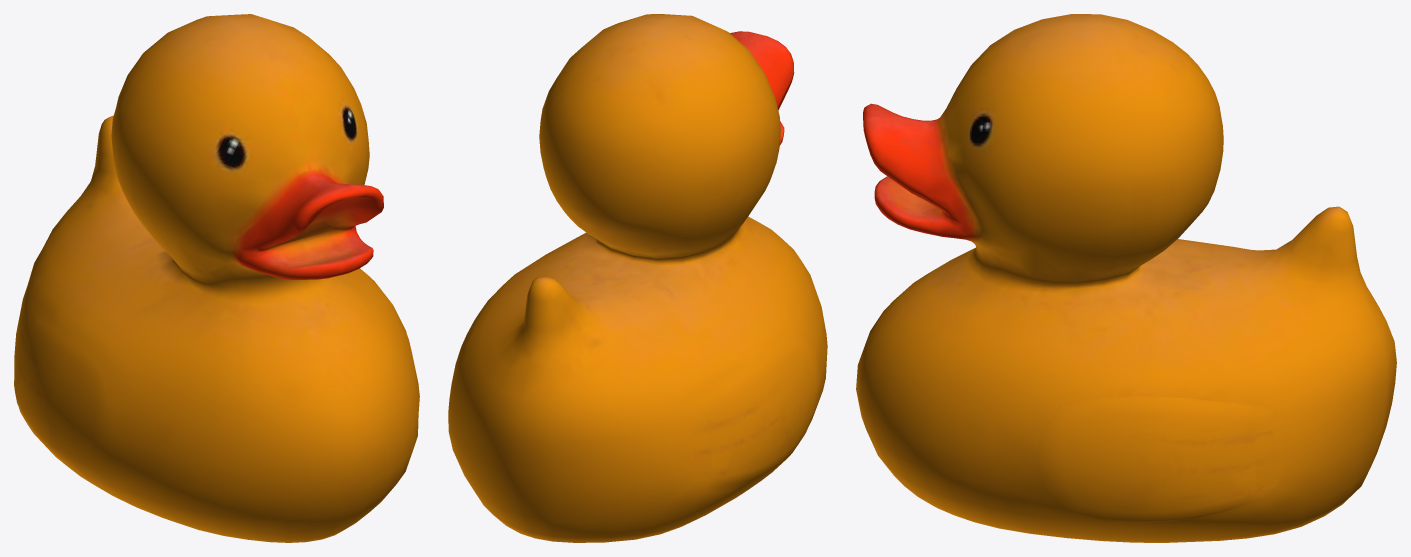
Rendered from rubber_duck_toy.glb.
3 renders of one model, left to right at view 1: azimuth 30°, elevation 25°; view 2: azimuth 150°, elevation 25°; view 3: azimuth 270°, elevation 25°, orthographic. The views are drawn at different scales.
Visible parts, largest first — view 1: rubber_duck_toy; view 2: rubber_duck_toy; view 3: rubber_duck_toy.
Boxes of the visible parts, bbox=[...] form: rubber_duck_toy: bbox=[14, 14, 419, 542]; rubber_duck_toy: bbox=[448, 14, 827, 542]; rubber_duck_toy: bbox=[856, 14, 1396, 542].
Bounding box in the file's own units: 0.2135 × 0.2855 × 0.3.
Materials: 1 (1 with a texture image).
